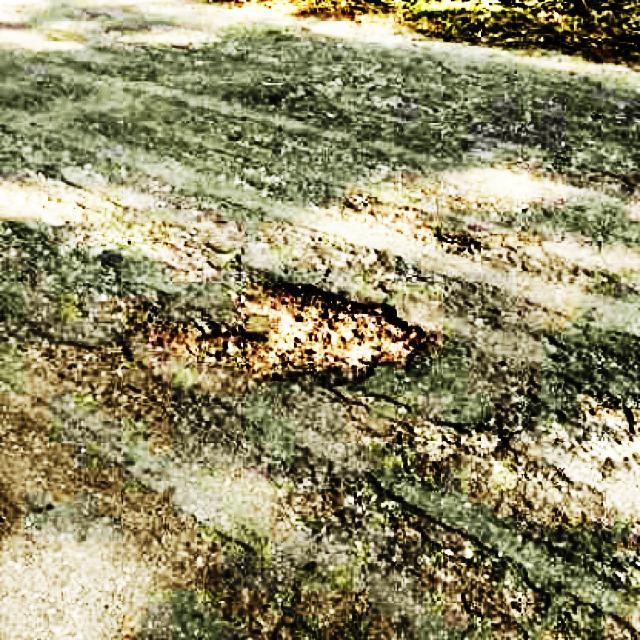pothole: (129, 272, 437, 390), (418, 522, 560, 623), (558, 380, 640, 463), (404, 415, 518, 463)
